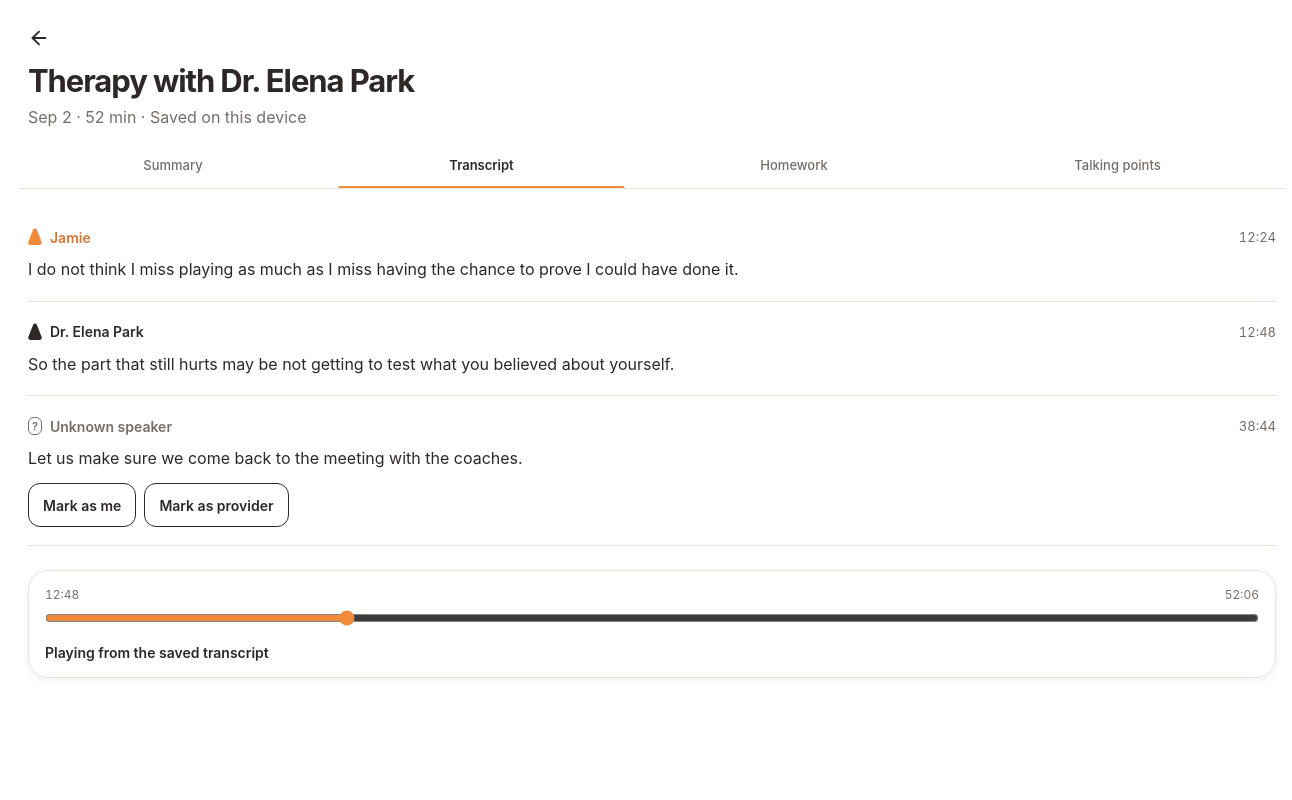
Test case: therapy session detail › corrects only unknown attribution while preserving transcript text
Check: the text "Let us make sure we come back to the meeting with the coaches." is shown, box [28, 448, 523, 468]
Click the button "Mark as provider": [216, 505] box [144, 483, 289, 527]
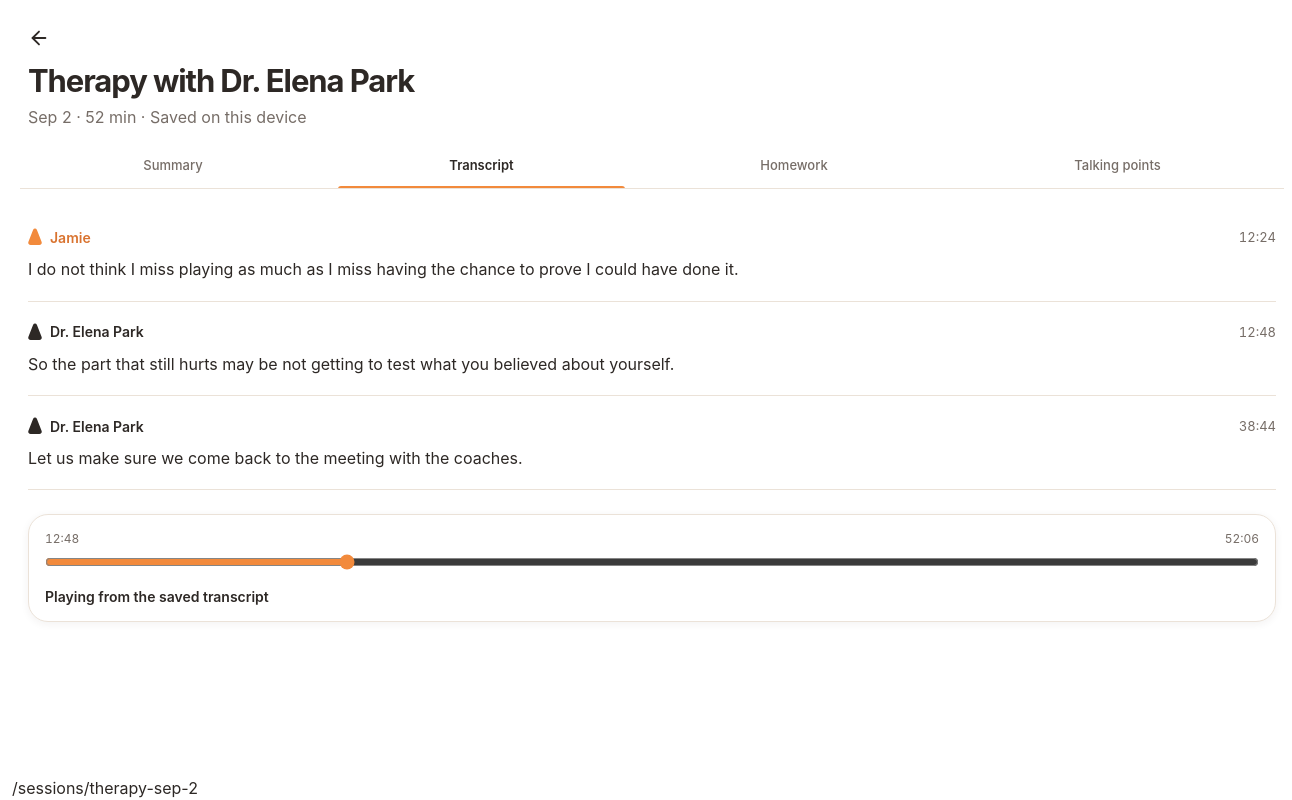
Check: the text "Dr. Elena Park" is shown 2 times, box [50, 323, 144, 340]; [50, 418, 144, 434]
Check: the button "Mark as provider" is gone
